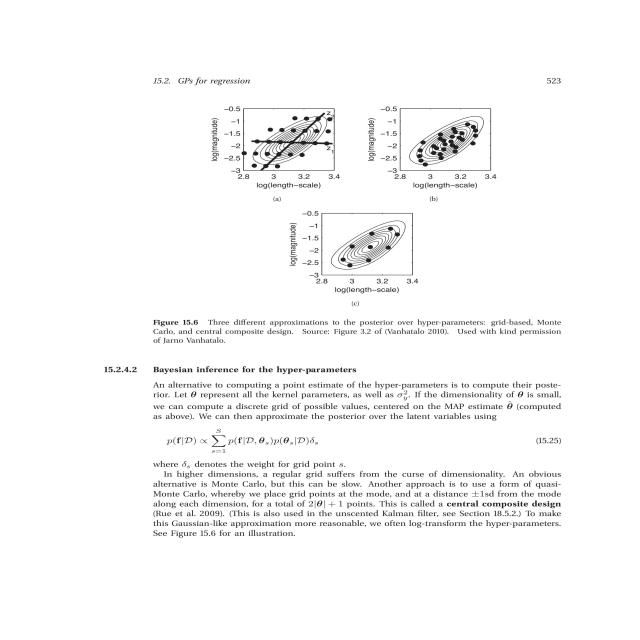diagram: (120, 88, 640, 353)
